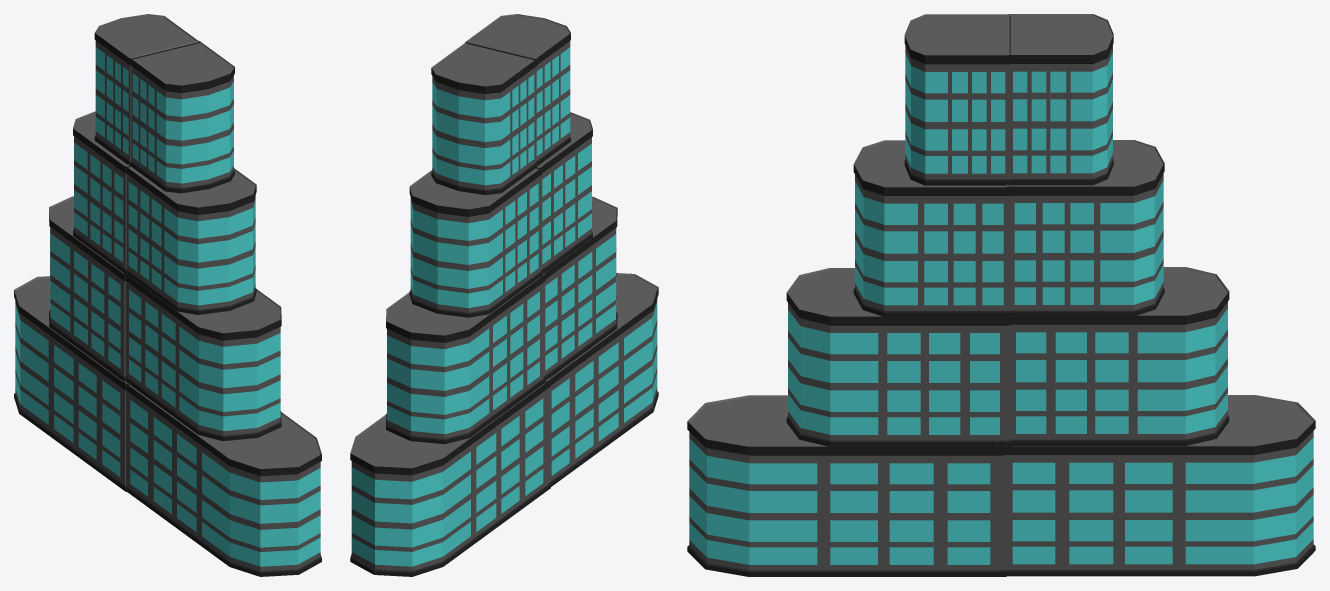
The model's file is Skyscraper4.fbx.
3 renders of one model, left to right at view 1: azimuth 30°, elevation 25°; view 2: azimuth 150°, elevation 25°; view 3: azimuth 270°, elevation 25°, orthographic. The views are drawn at different scales.
Visible parts, largest first — view 1: Cube.009, Cube.010, Cube.011, Cube.013, Cube.006, Cube.007, Cube.012, Cube.008; view 2: Cube.006, Cube.007, Cube.008, Cube.012, Cube.009, Cube.010, Cube.013, Cube.011; view 3: Cube.009, Cube.006, Cube.010, Cube.007, Cube.011, Cube.008, Cube.013, Cube.012.
Part boxes in pixels (<box>): Cube.009: <box>122,380,321,576</box>; Cube.010: <box>123,272,281,441</box>; Cube.011: <box>124,164,256,314</box>; Cube.013: <box>129,41,234,193</box>; Cube.006: <box>14,276,129,491</box>; Cube.007: <box>49,196,127,381</box>; Cube.012: <box>94,14,199,165</box>; Cube.008: <box>73,111,131,273</box>; Cube.006: <box>350,378,550,576</box>; Cube.007: <box>386,273,545,444</box>; Cube.008: <box>409,165,542,317</box>; Cube.012: <box>431,41,537,194</box>; Cube.009: <box>544,273,658,486</box>; Cube.010: <box>540,196,617,380</box>; Cube.013: <box>465,14,570,165</box>; Cube.011: <box>535,112,592,273</box>; Cube.009: <box>687,395,1006,576</box>; Cube.006: <box>996,395,1315,576</box>; Cube.010: <box>786,268,1011,446</box>; Cube.007: <box>1004,267,1229,445</box>; Cube.011: <box>853,140,1011,316</box>; Cube.008: <box>1006,140,1164,315</box>; Cube.013: <box>904,14,1010,185</box>; Cube.012: <box>1007,14,1113,185</box>.
Size of the model in its own units: 3004 by 13923 by 15359.
